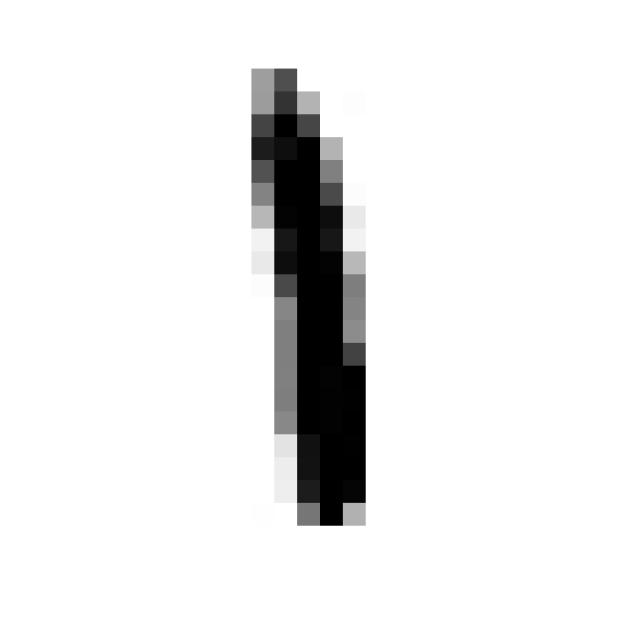1 -one-: (226, 44, 391, 552)
